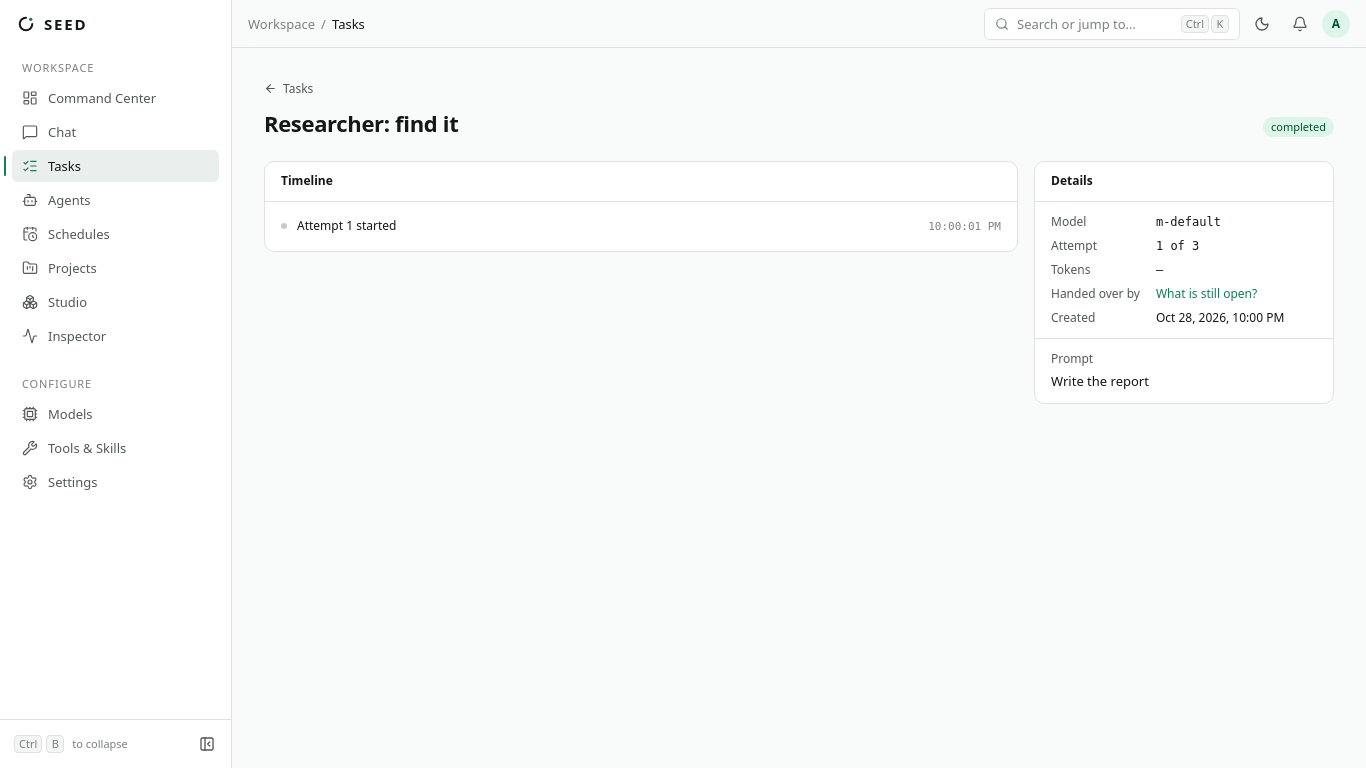
Test: Tasks › starts a task's page afresh when moving to another task
This screenshot has width=1366, height=768.
Check: the heading "Researcher: find it" is shown, box [264, 108, 458, 136]
Check: the text "Attempt 1 started" is shown, box [297, 218, 396, 234]
Step 1. Click the link "What is still open?" → coordinates (1207, 293), box [1156, 284, 1257, 302]
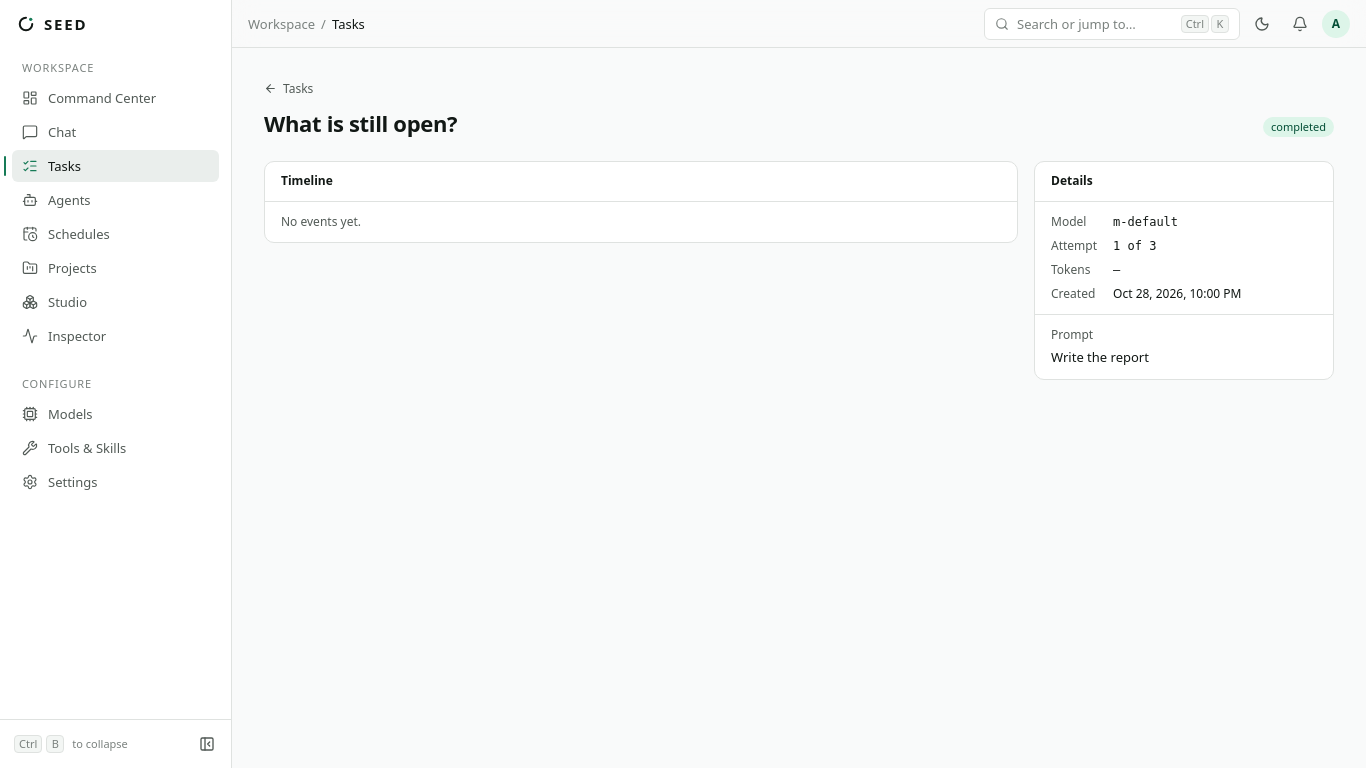
Check: the heading "What is still open?" is shown, box [264, 108, 457, 136]
Check: the text "Attempt 1 started" is gone
